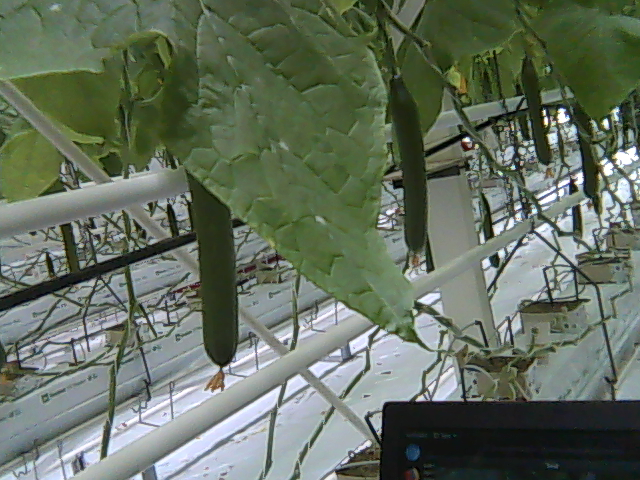concombre: (183, 171, 242, 394), (384, 73, 431, 274)
